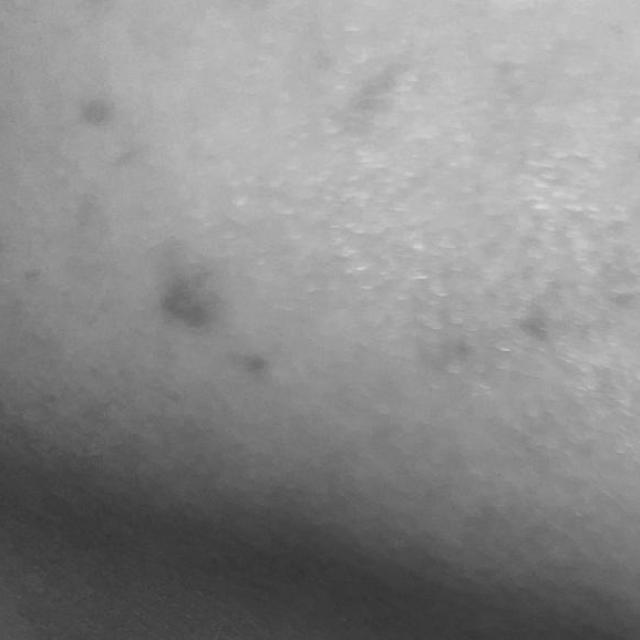papule: (111, 232, 285, 383)
